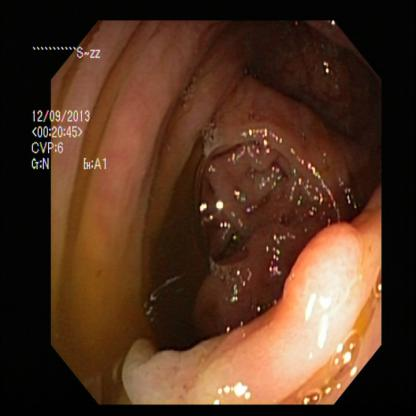Polyps: (269, 222, 376, 361)
